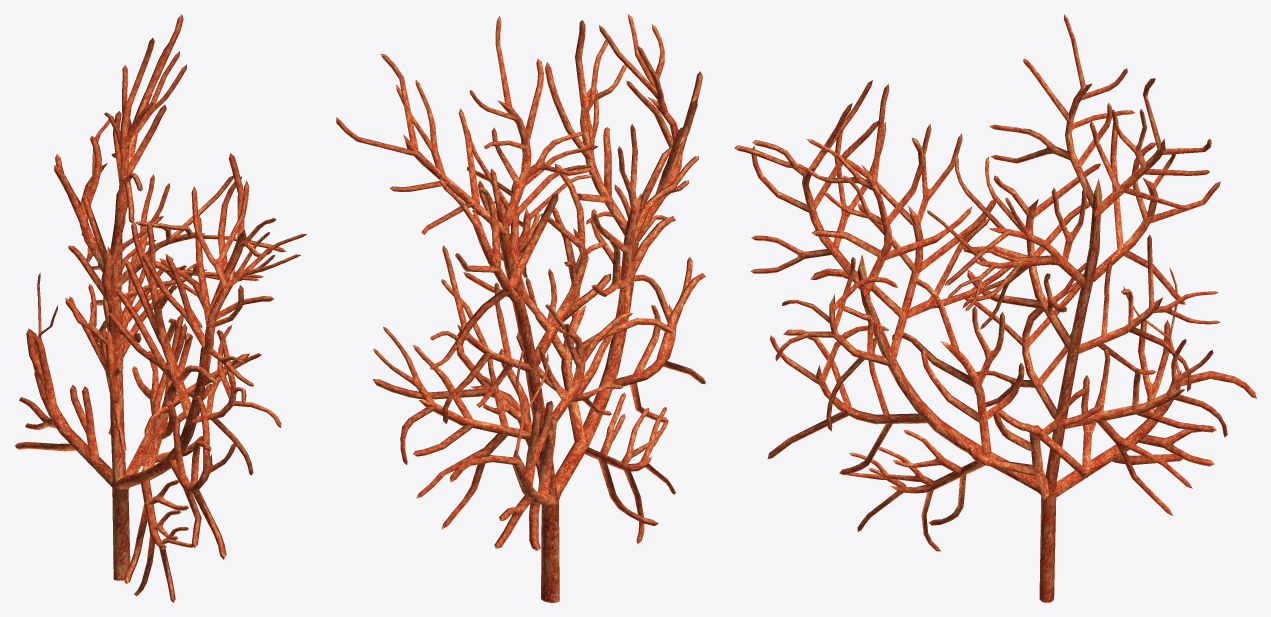
File: FanCoralCluster.001_FBX_still.fbx
3 views of the same model, side by side, from view 1: azimuth 30°, elevation 25°; view 2: azimuth 150°, elevation 25°; view 3: azimuth 270°, elevation 25° (orthographic). The views are drawn at different scales.
Parts seen in each view (by area): view 1: FanCoralCluster.001_gameasset; view 2: FanCoralCluster.001_gameasset; view 3: FanCoralCluster.001_gameasset.
Part boxes in pixels (box(x1,y1,x2,y2)): FanCoralCluster.001_gameasset: box(14, 14, 306, 602); FanCoralCluster.001_gameasset: box(336, 14, 705, 602); FanCoralCluster.001_gameasset: box(734, 14, 1256, 602).
Size of the model in its own units: 2.3 by 5.92 by 4.63.
1 material, 1 textured.
